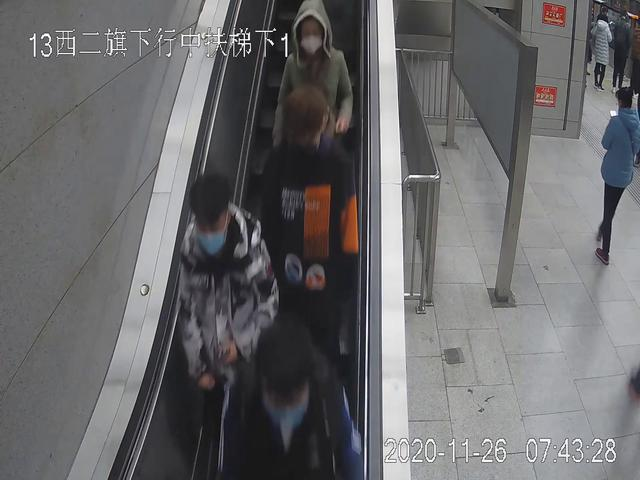person: (176, 179, 281, 480), (263, 89, 363, 375), (273, 1, 352, 237), (593, 89, 639, 267), (591, 12, 613, 90), (613, 16, 632, 86)
